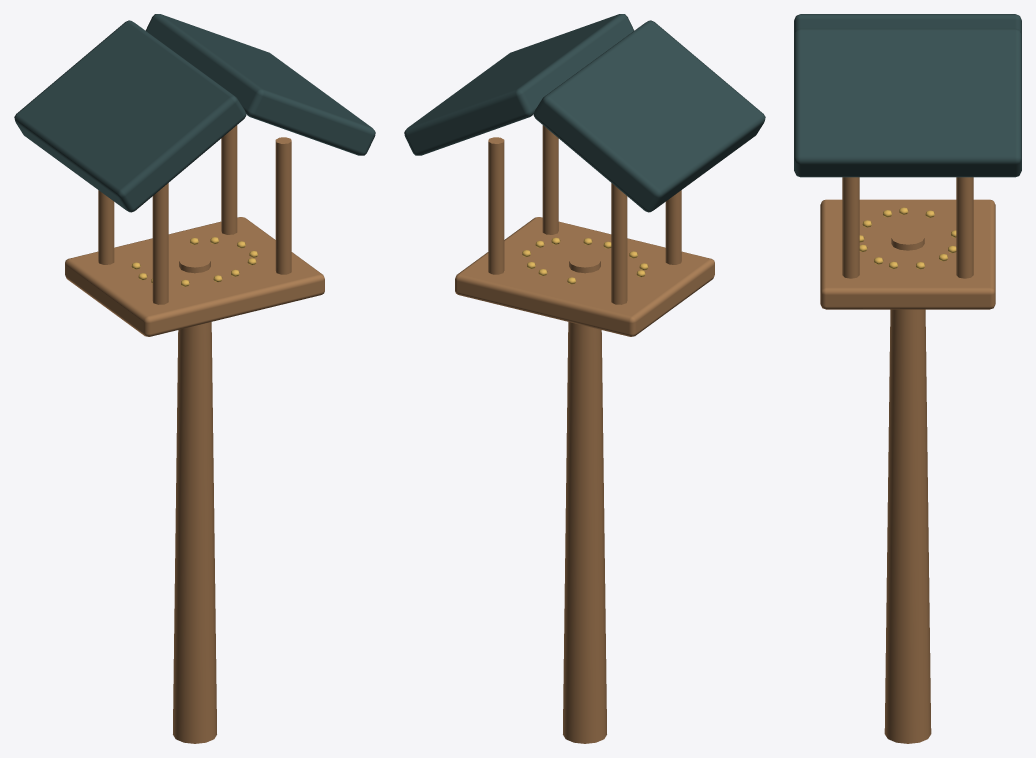
Rendered from almanac-gardens-bird-feeder-a4c5f2f3__22092.glb.
The picture shows the model from 3 angles, left to right: view 1: azimuth 30°, elevation 25°; view 2: azimuth 150°, elevation 25°; view 3: azimuth 270°, elevation 25°; orthographic projection. The views are drawn at different scales.
Visible parts, largest first — view 1: bird-feeder-oak, bird-feeder-iron, bird-feeder-gold; view 2: bird-feeder-oak, bird-feeder-iron, bird-feeder-gold; view 3: bird-feeder-oak, bird-feeder-iron, bird-feeder-gold.
Boxes of the visible parts, bbox=[...] form: bird-feeder-oak: bbox=[65, 125, 324, 743]; bird-feeder-iron: bbox=[14, 14, 375, 212]; bird-feeder-gold: bbox=[131, 237, 257, 286]; bird-feeder-oak: bbox=[455, 125, 714, 743]; bird-feeder-iron: bbox=[404, 14, 765, 212]; bird-feeder-gold: bbox=[522, 237, 648, 284]; bird-feeder-oak: bbox=[820, 177, 995, 743]; bird-feeder-iron: bbox=[794, 14, 1021, 177]; bird-feeder-gold: bbox=[859, 207, 956, 269].
Size of the model in its own units: 0.7102 by 1.79 by 0.52.
